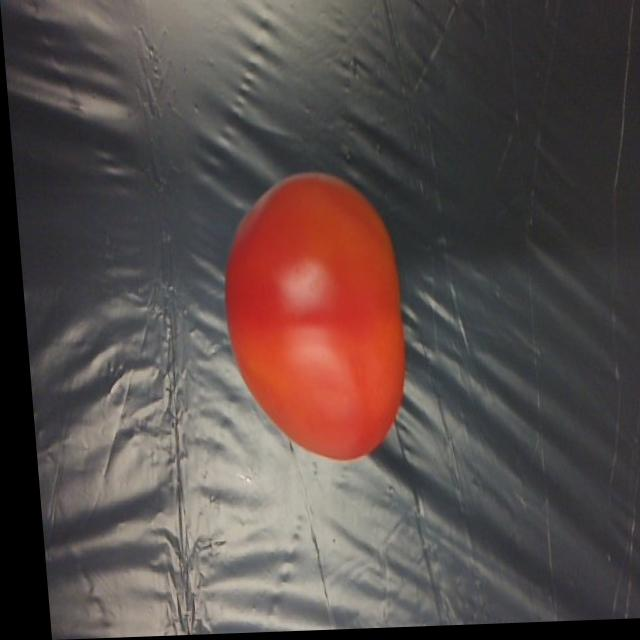kirmizi: (164, 114, 424, 483)
